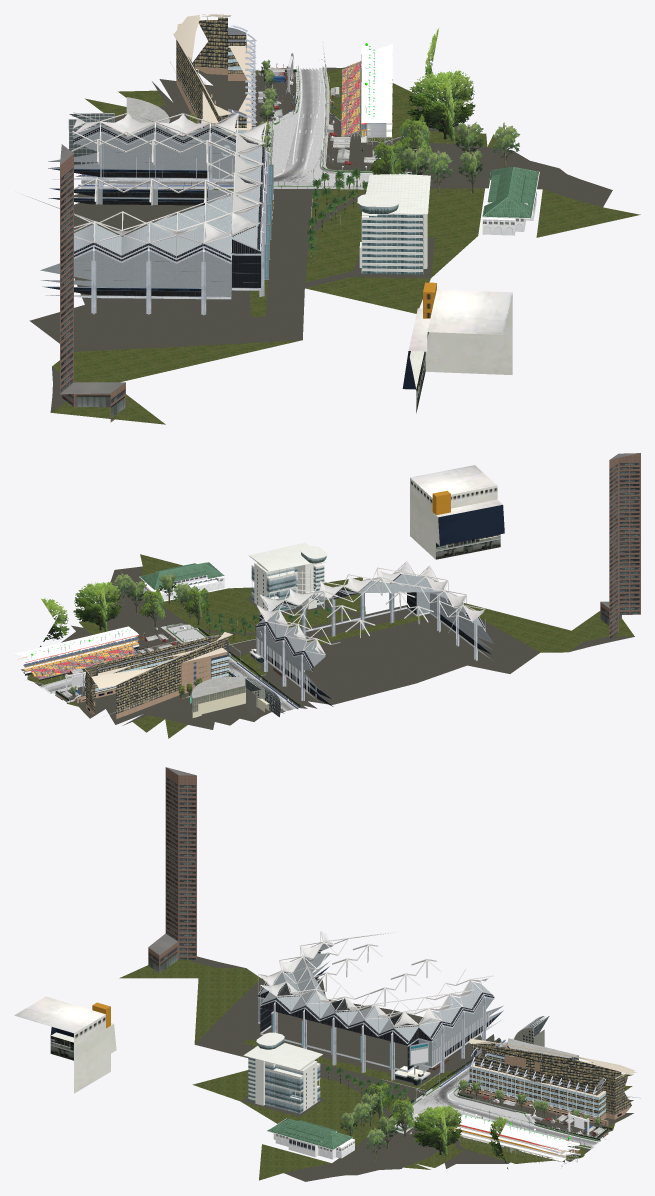
3 views of the same model, one above another, from view 1: azimuth 30°, elevation 25°; view 2: azimuth 150°, elevation 25°; view 3: azimuth 270°, elevation 25° (orthographic). The views are drawn at different scales.
Parts seen in each view (by area): view 1: m64_t04, m96_t04, m97_t04, m14_t04, m43_t04, m22_t04, m25_t04, m56_t04, m45_t04, m87_t04, m16_t04, m15_t04 (+8 smaller); view 2: m96_t04, m64_t04, m97_t04, m43_t04, m25_t04, m14_t04, m56_t04, m22_t04, m87_t04, m21_t04, m45_t04, m0_t04 (+8 smaller); view 3: m64_t04, m96_t04, m97_t04, m25_t04, m56_t04, m14_t04, m43_t04, m22_t04, m87_t04, m45_t04, m0_t04, m15_t04 (+2 smaller).
Part boxes in pixels (box(x1,y1,x2,y2)): m64_t04: box(24, 112, 273, 315); m96_t04: box(29, 67, 612, 412); m97_t04: box(51, 67, 640, 424); m14_t04: box(188, 27, 520, 263); m43_t04: box(402, 282, 512, 413); m22_t04: box(357, 174, 430, 274); m25_t04: box(170, 14, 257, 142); m56_t04: box(60, 144, 125, 422); m45_t04: box(482, 167, 539, 235); m87_t04: box(360, 43, 392, 144); m16_t04: box(83, 68, 411, 187); m15_t04: box(81, 68, 319, 185); m96_t04: box(28, 566, 634, 729); m64_t04: box(249, 561, 494, 706); m97_t04: box(27, 554, 634, 738); m43_t04: box(410, 465, 504, 559); m25_t04: box(76, 632, 232, 718); m14_t04: box(40, 571, 330, 698); m56_t04: box(600, 453, 640, 638); m22_t04: box(248, 542, 326, 611); m87_t04: box(15, 626, 139, 675); m21_t04: box(190, 676, 269, 717); m45_t04: box(139, 562, 224, 600); m0_t04: box(40, 625, 309, 707); m64_t04: box(258, 931, 503, 1085); m96_t04: box(190, 956, 633, 1181); m97_t04: box(119, 959, 633, 1180); m25_t04: box(461, 1038, 640, 1126); m56_t04: box(148, 767, 196, 973); m14_t04: box(325, 1066, 600, 1168); m43_t04: box(14, 996, 116, 1093); m22_t04: box(243, 1032, 322, 1113); m87_t04: box(453, 1108, 580, 1161); m45_t04: box(267, 1118, 354, 1159); m0_t04: box(396, 1011, 612, 1147); m15_t04: box(434, 1042, 598, 1146).
Size of the model in its own units: 471 by 179 by 541.
37 materials, 36 textured.
